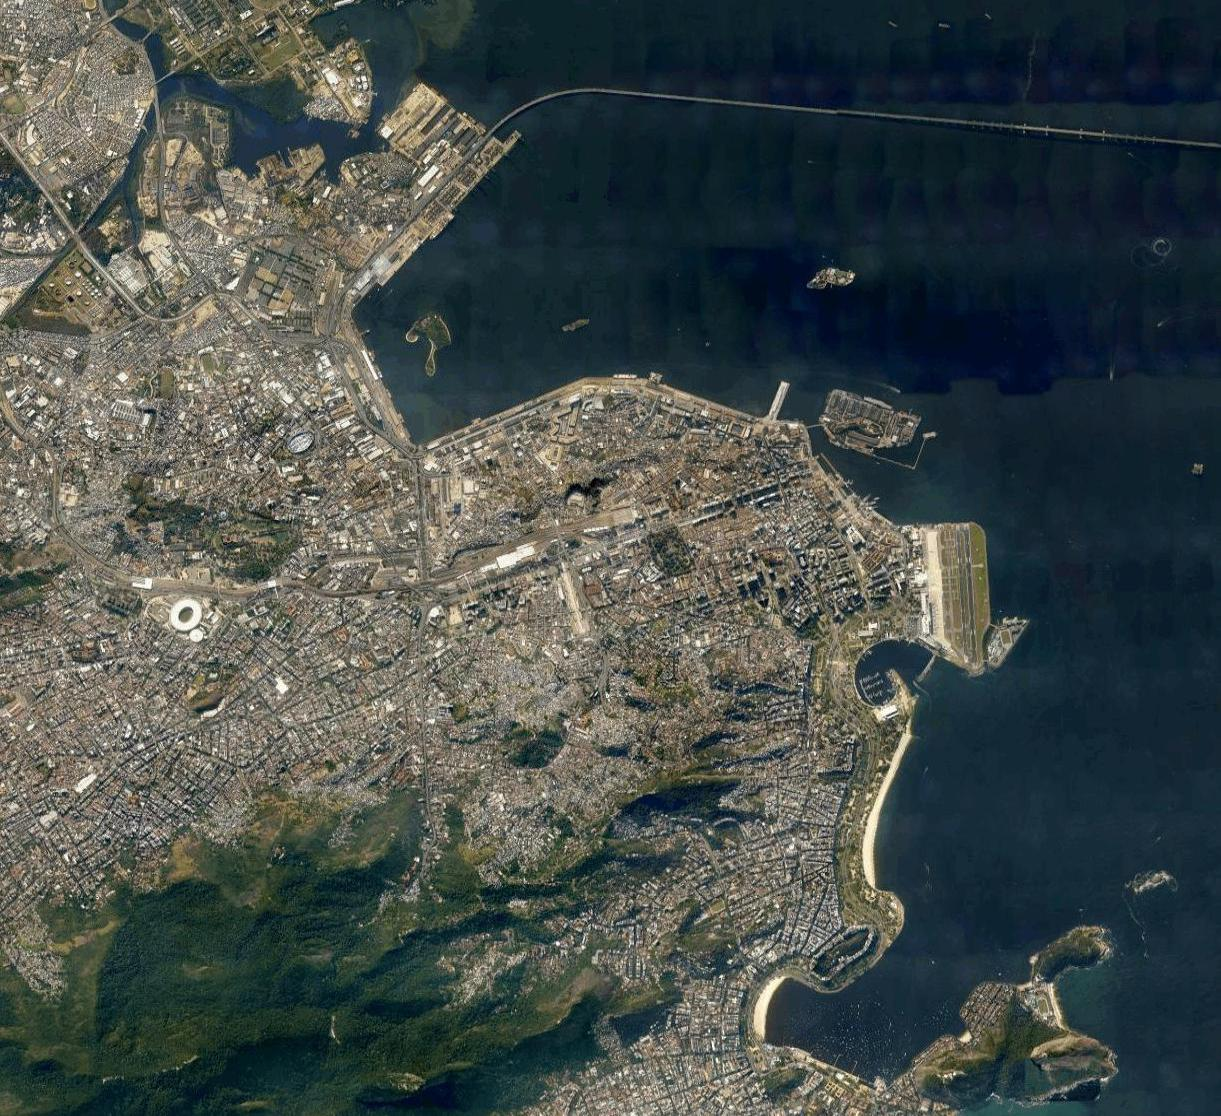airport: (940, 522, 990, 673)
harbor: (763, 374, 939, 511), (854, 657, 911, 714)
train_station: (609, 507, 636, 528), (127, 574, 154, 589), (260, 577, 282, 592)
